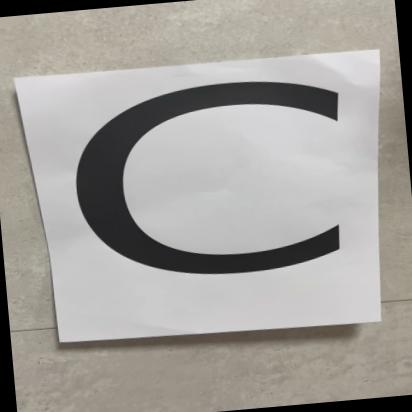seat: (32, 52, 367, 342)
